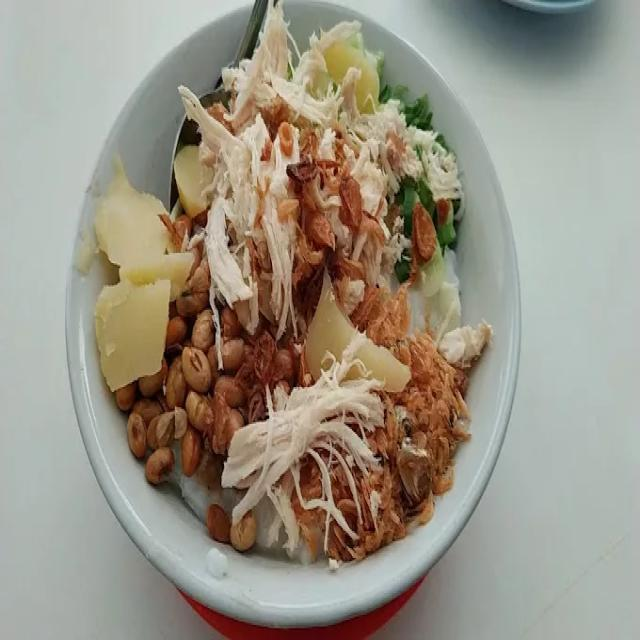bubur ayam: (90, 3, 487, 570)
